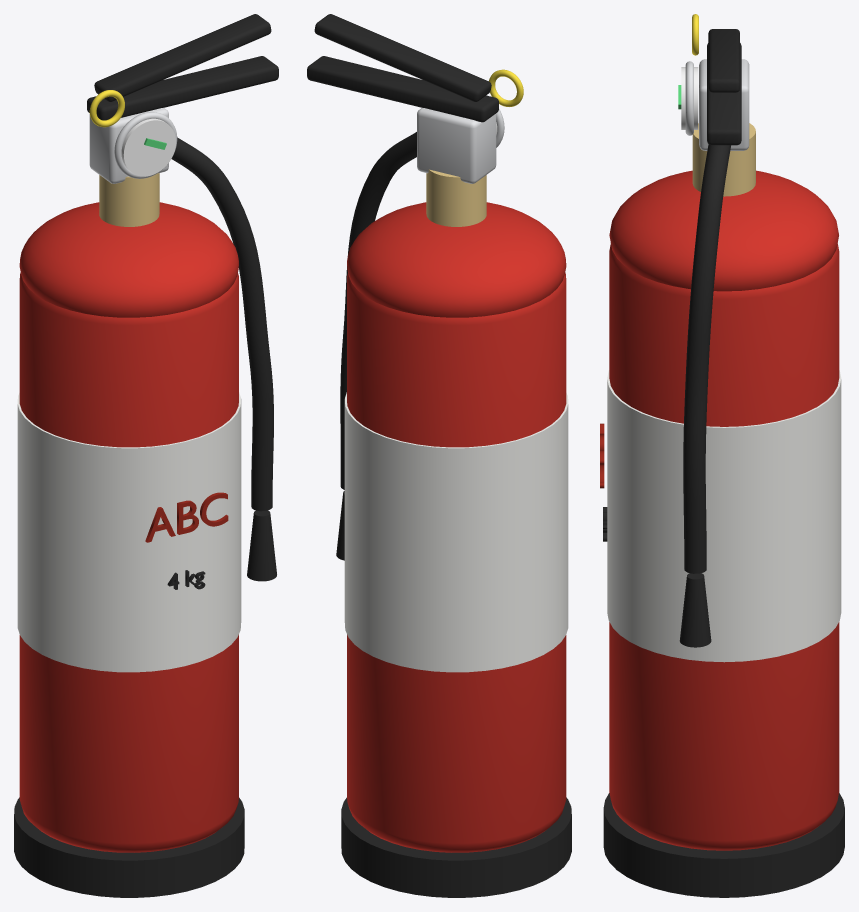
File: Extinguisher_Powder.fbx
3 renders of one model, left to right at view 1: azimuth 30°, elevation 25°; view 2: azimuth 150°, elevation 25°; view 3: azimuth 270°, elevation 25°, orthographic. The views are drawn at different scales.
Visible parts, largest first — view 1: Extinguisher_Powder; view 2: Extinguisher_Powder; view 3: Extinguisher_Powder.
Boxes of the visible parts, left/top/right/bottom form: Extinguisher_Powder: left=14, top=14, right=278, bottom=897; Extinguisher_Powder: left=307, top=14, right=571, bottom=897; Extinguisher_Powder: left=600, top=14, right=844, bottom=897.
Bounding box in the file's own units: 0.204 × 0.6416 × 0.1705.
